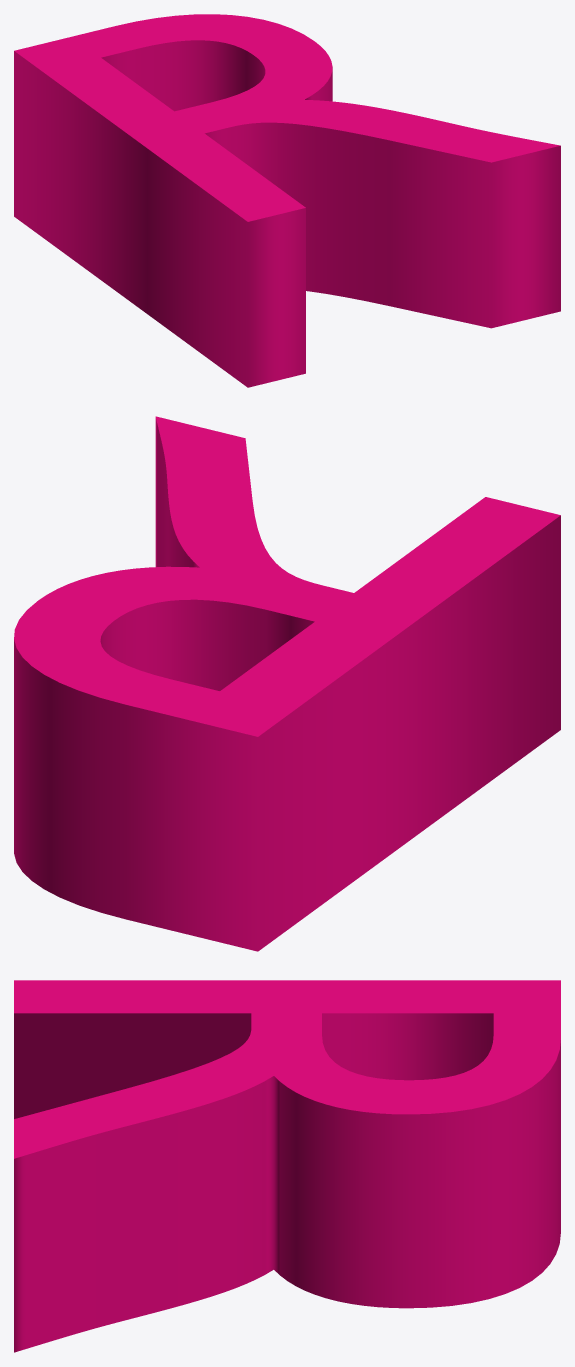
3 views of the same model, one above another, from view 1: azimuth 30°, elevation 25°; view 2: azimuth 150°, elevation 25°; view 3: azimuth 270°, elevation 25° (orthographic). The views are drawn at different scales.
Parts seen in each view (by area): view 1: C; view 2: C; view 3: C.
Boxes of the visible parts, <box> form: C: <box>14,14,560,387</box>; C: <box>14,416,560,951</box>; C: <box>14,980,560,1352</box>.
Bounding box in the file's own units: 0.7905 × 0.4 × 1.02.
